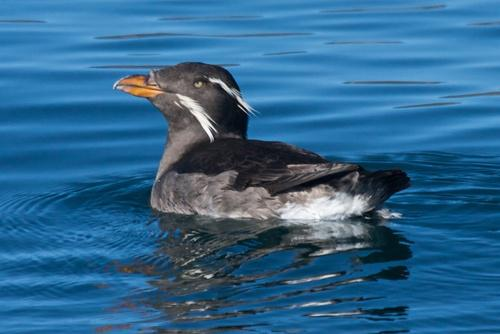008.Rhinoceros_Auklet: (110, 62, 412, 241)
